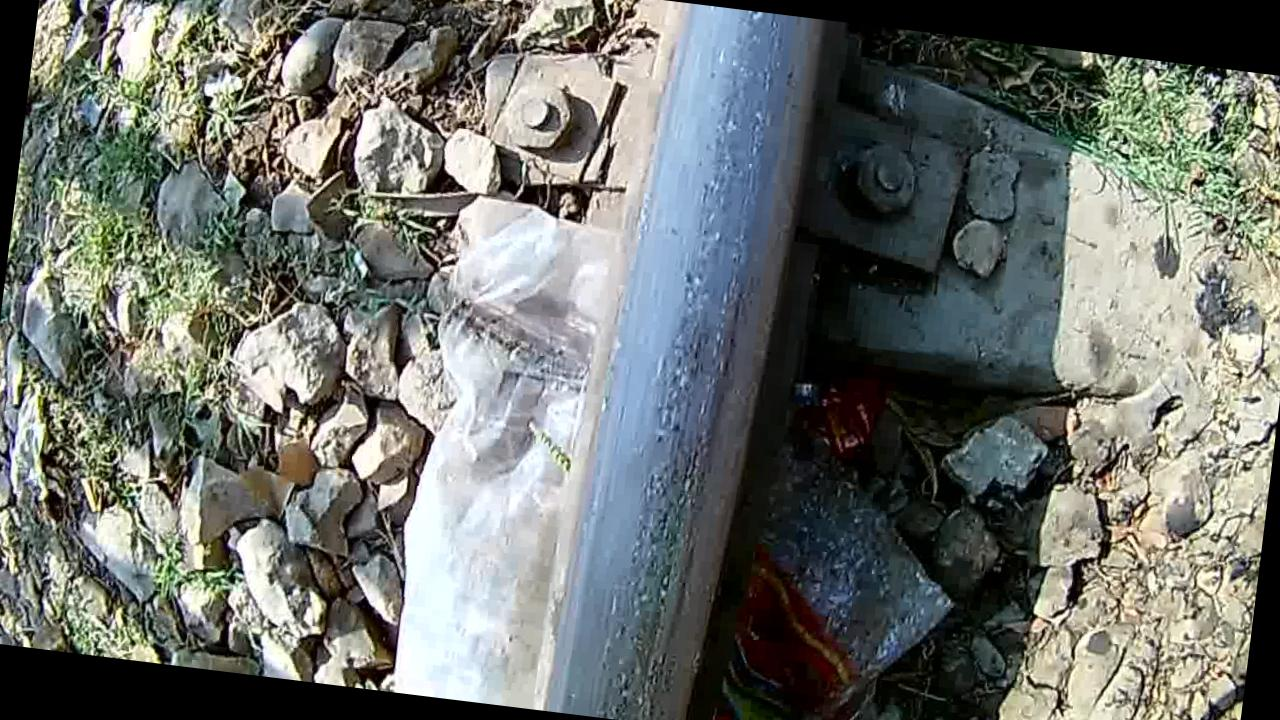clip_missing: (592, 7, 817, 720)
